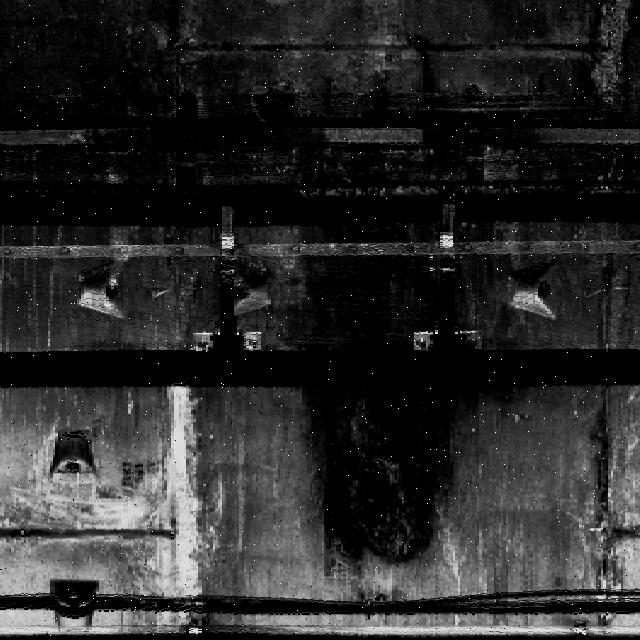leakage: (298, 385, 511, 569), (274, 223, 521, 355)
